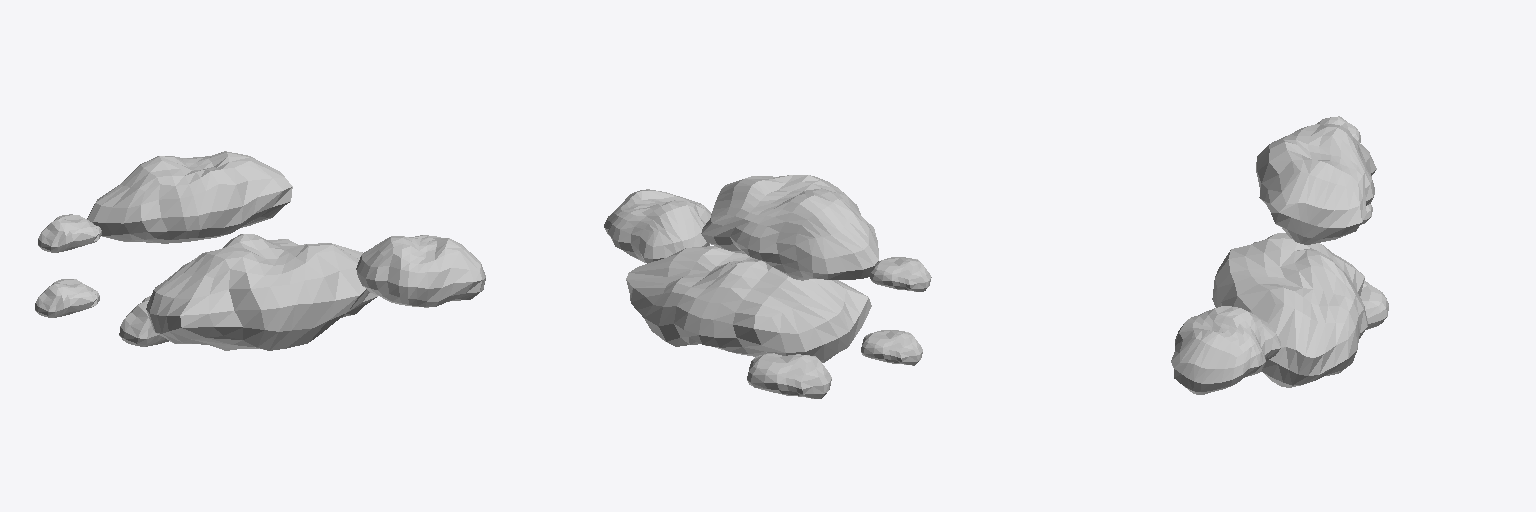
The model's file is clouds.obj.
3 views of the same model, side by side, from view 1: azimuth 30°, elevation 25°; view 2: azimuth 150°, elevation 25°; view 3: azimuth 270°, elevation 25° (orthographic).
Parts seen in each view (by area): view 1: default; view 2: default; view 3: default.
Boxes of the visible parts, x1=… form: default: x1=35, y1=151, x2=485, y2=350; default: x1=604, y1=175, x2=931, y2=398; default: x1=1171, y1=116, x2=1388, y2=394.
Bounding box in the file's own units: 34.05 × 16.48 × 17.12.